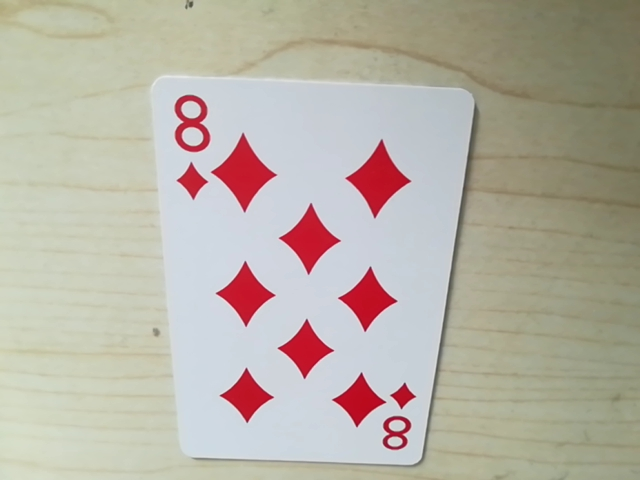fk 8: (161, 85, 219, 205), (376, 396, 418, 459)
